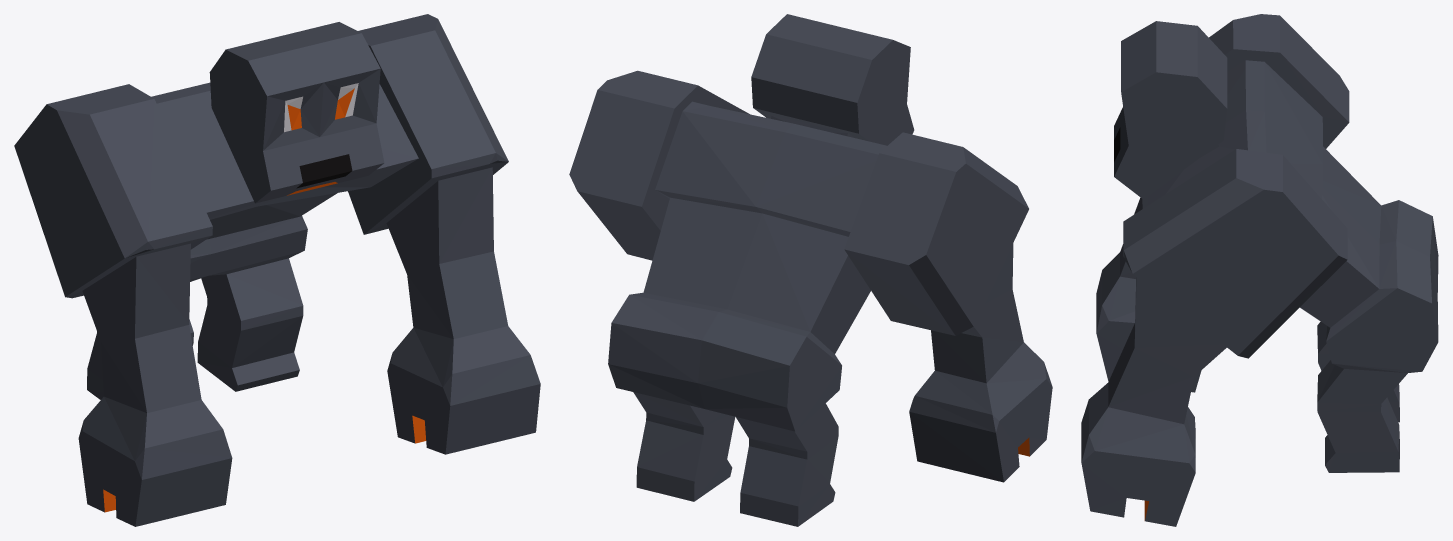
The model's file is kong_000029.obj.
The picture shows the model from 3 angles, left to right: view 1: azimuth 30°, elevation 25°; view 2: azimuth 150°, elevation 25°; view 3: azimuth 270°, elevation 25°; orthographic projection. The views are drawn at different scales.
Parts seen in each view (by area): view 1: Cube; view 2: Cube; view 3: Cube.
Part boxes in pixels (x1,y1,x2,y2): Cube: [14, 14, 540, 526]; Cube: [569, 14, 1052, 526]; Cube: [1081, 14, 1438, 526].
Size of the model in its own units: 5.84 by 6.03 by 4.97.
1 material, 1 textured.
